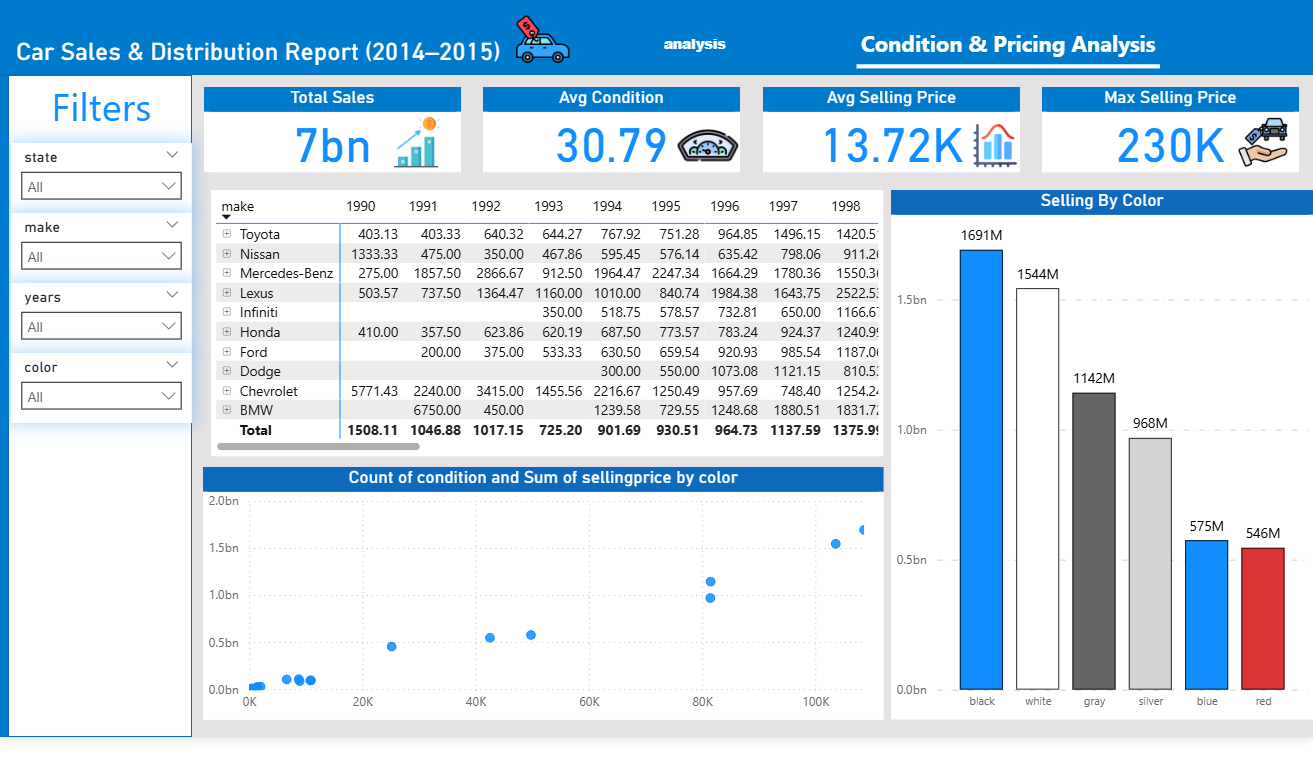

The dashboard page shown, as its layout file describes it:
{"tool":"powerbi","page":{"name":"Condition & Pricing Analysis","canvas":[1280,720],"ordinal":1},"visuals":[{"type":"shape","box":[0,0,1280,75.9],"z":1000},{"type":"shape","box":[0,75.6,24.8,643.9],"z":2000},{"type":"textbox","box":[12.6,34,521.3,41.8],"z":4000},{"type":"card","title":"Avg Condition","fields":{"Values":["Avg(car_prices - Copy.condition)"]},"box":[472.1,87.5,250,82.7],"z":5000},{"type":"shape","box":[9.7,75.9,179,643.9],"z":6000},{"type":"card","title":"Max Selling Price","fields":{"Values":["Max(car_prices - Copy.sellingprice)"]},"box":[1015.4,87.5,250,82.7],"z":7000},{"type":"card","title":"Avg Selling Price","fields":{"Values":["Avg(car_prices - Copy.sellingprice)"]},"box":[743.7,87.5,250,82.7],"z":8000},{"type":"slicer","fields":{"Values":["car_prices - Copy.state"]},"box":[12.6,142,176,68.1],"z":9000},{"type":"textbox","box":[12.6,75.9,176,66.1],"z":10000},{"type":"slicer","fields":{"Values":["car_prices - Copy.make"]},"box":[12.6,210.1,176,68.1],"z":11000},{"type":"slicer","fields":{"Values":["car_prices - Copy.Text Between Delimiters.Variation.Date Hierarchy.Year","car_prices - Copy.Text Between Delimiters.Variation.Date Hierarchy.Quarter","car_prices - Copy.Text Between Delimiters.Variation.Date Hierarchy.Month","car_prices - Copy.Text Between Delimiters.Variation.Date Hierarchy.Day"]},"box":[12.6,278.2,176,68.1],"z":12000},{"type":"pivotTable","fields":{"Rows":["car_prices - Copy.make","car_prices - Copy.model"],"Values":["Avg(car_prices - Copy.sellingprice)"],"Columns":["car_prices - Copy.year"]},"box":[207,188,654,259],"z":13000},{"type":"clusteredColumnChart","title":"Selling By Color","fields":{"Category":["car_prices - Copy.color"],"Y":["Sum(car_prices - Copy.sellingprice)"]},"box":[869,188,411,515],"z":14000},{"type":"card","title":"Total Sales","fields":{"Values":["Sum(car_prices - Copy.sellingprice)"]},"box":[200.4,87.5,250,82.7],"z":15000},{"type":"scatterChart","fields":{"X":["CountNonNull(car_prices - Copy.condition)"],"Y":["Sum(car_prices - Copy.sellingprice)"],"Category":["car_prices - Copy.color"]},"box":[199,457,662,246],"z":16000},{"type":"image","box":[640,115,100,59],"z":17000},{"type":"image","box":[1180,117,100,49],"z":18000},{"type":"image","box":[925,124,90,42],"z":19000},{"type":"image","box":[357,117,100,49],"z":20000},{"type":"pageNavigator","box":[530,19,600,50],"z":21000},{"type":"image","box":[503.8,13.6,51.6,55.4],"z":22000},{"type":"slicer","fields":{"Values":["car_prices - Copy.color"]},"box":[13,346,176,68],"z":23000}]}

Visuals, with their boxes on the page's 1280x720 design canvas (x1, y1, x2, y2). These are canvas units, not pixel positions in the 1313x768 screenshot, which may show the page scaled, cropped or inside an application window:
shape: 0:0:1280:76
shape: 0:76:25:720
textbox: 13:34:534:76
"Avg Condition" card: 472:88:722:170
shape: 10:76:189:720
"Max Selling Price" card: 1015:88:1265:170
"Avg Selling Price" card: 744:88:994:170
slicer - car_prices - Copy.state: 13:142:189:210
textbox: 13:76:189:142
slicer - car_prices - Copy.make: 13:210:189:278
slicer - car_prices - Copy.Text Between Delimiters.Variation.Date Hierarchy.Year x car_prices - Copy.Text Between Delimiters.Variation.Date Hierarchy.Quarter: 13:278:189:346
pivotTable - car_prices - Copy.make x car_prices - Copy.model: 207:188:861:447
"Selling By Color" clusteredColumnChart: 869:188:1280:703
"Total Sales" card: 200:88:450:170
scatterChart - CountNonNull(car_prices - Copy.condition) x Sum(car_prices - Copy.sellingprice): 199:457:861:703
image: 640:115:740:174
image: 1180:117:1280:166
image: 925:124:1015:166
image: 357:117:457:166
pageNavigator: 530:19:1130:69
image: 504:14:555:69
slicer - car_prices - Copy.color: 13:346:189:414
